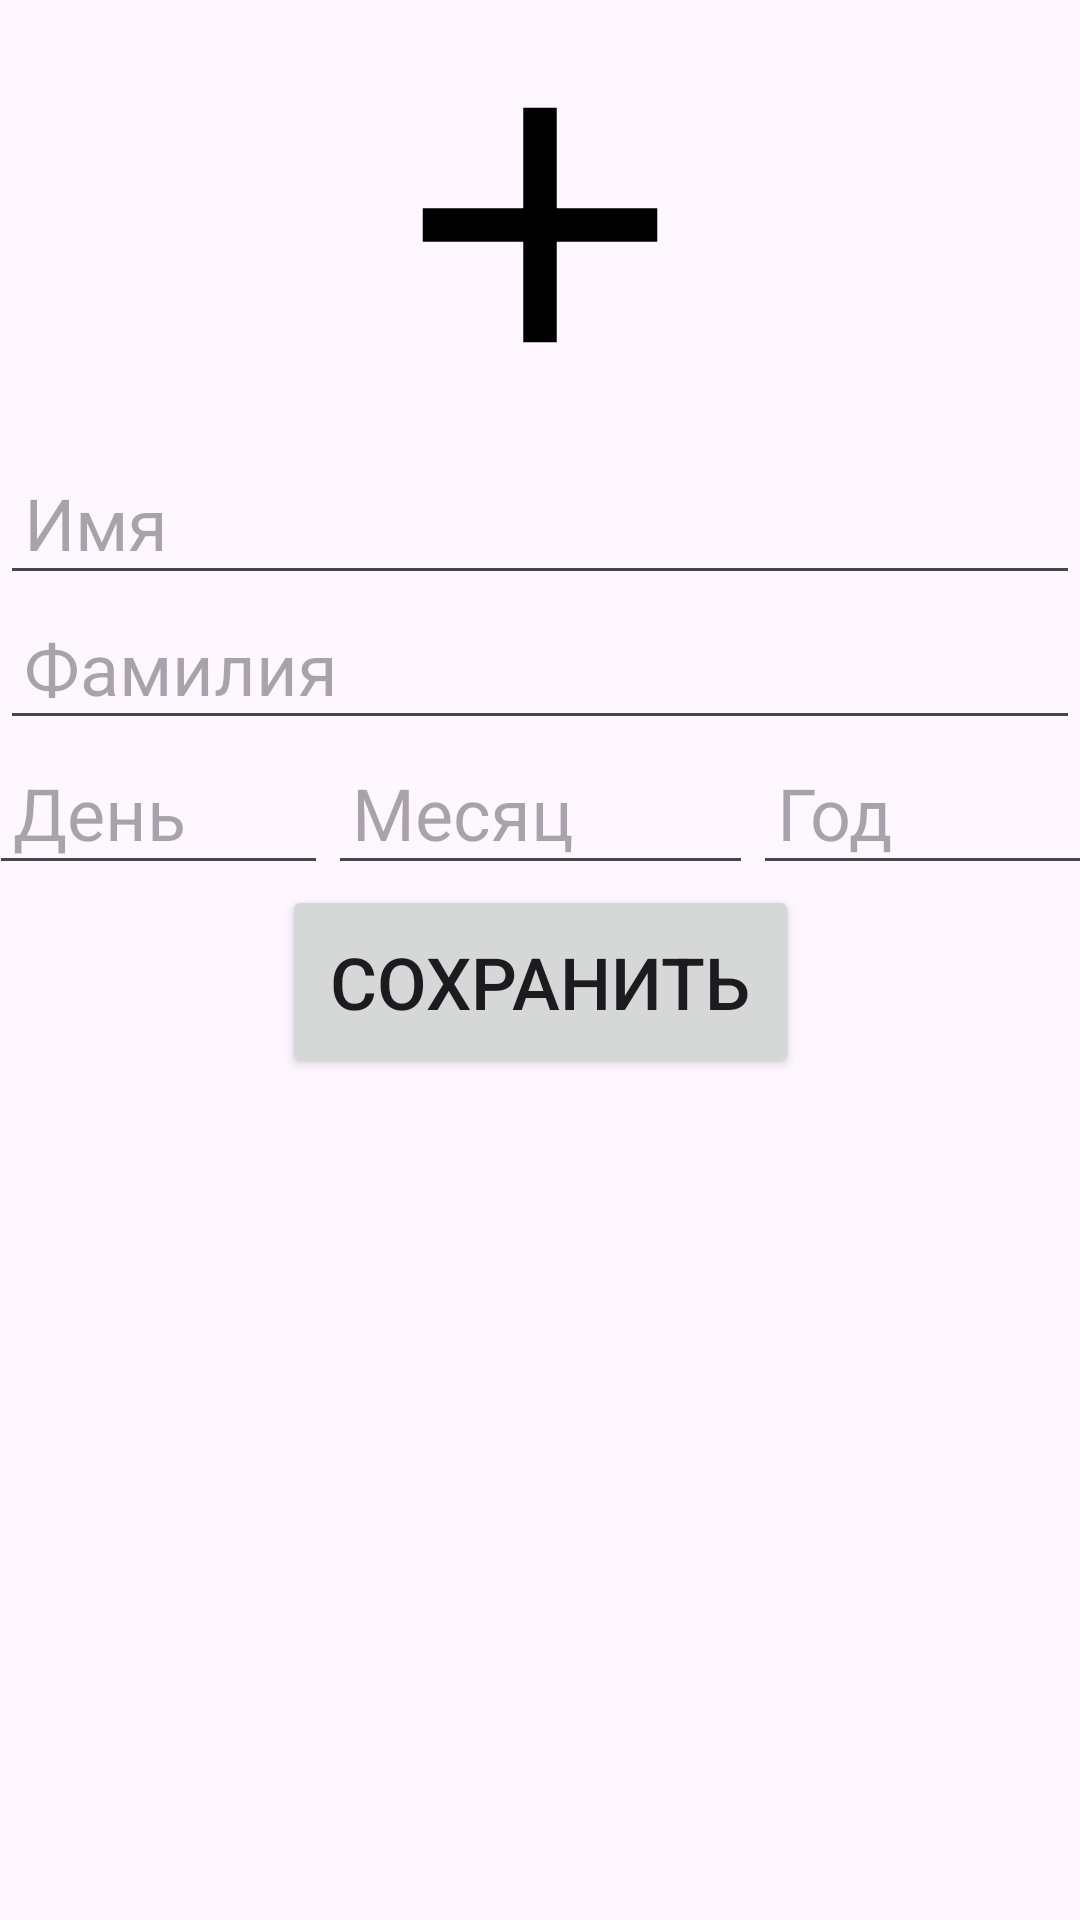

Screen size 1080*1920. Icon name, then its box in pixels as bbox(x1, y1, x2, y2):
add: bbox(422, 107, 658, 343)
